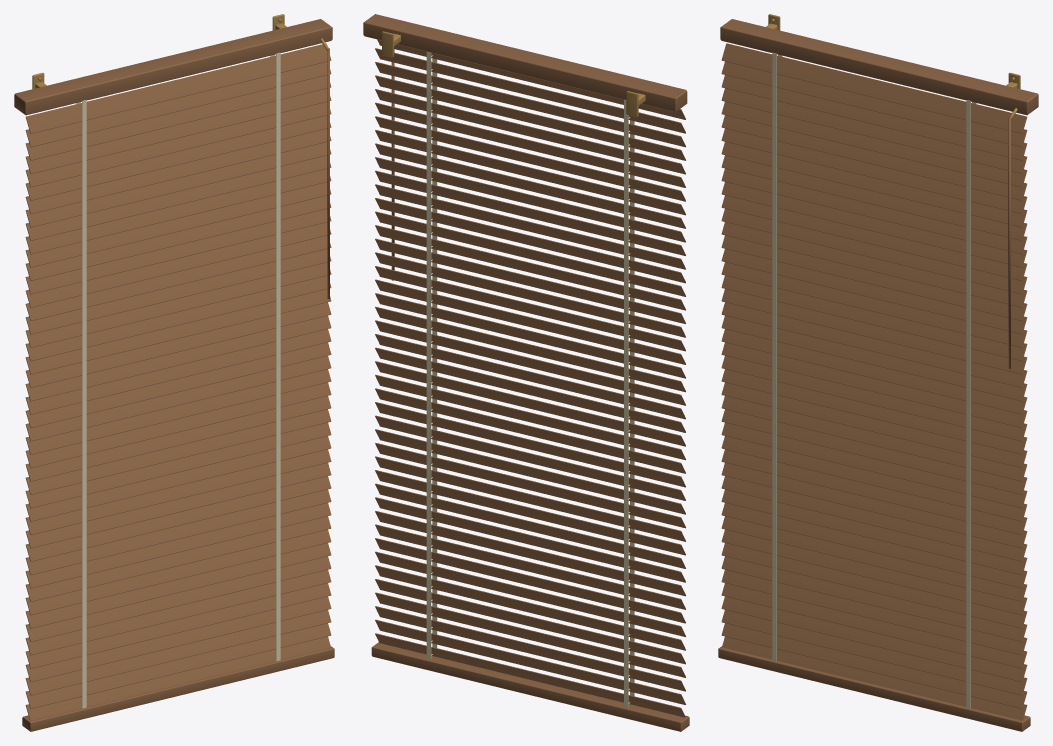
The model's file is rpg-mansion-timber-venetian-blind-01.glb.
3 renders of one model, left to right at view 1: azimuth 30°, elevation 25°; view 2: azimuth 150°, elevation 25°; view 3: azimuth 330°, elevation 25°, orthographic.
Parts seen in each view (by area): view 1: rpg-mansion-timber-venetian-blind-01; view 2: rpg-mansion-timber-venetian-blind-01; view 3: rpg-mansion-timber-venetian-blind-01.
Part boxes in pixels (x1,y1,x2,y2): rpg-mansion-timber-venetian-blind-01: (14, 14, 334, 731); rpg-mansion-timber-venetian-blind-01: (363, 14, 689, 731); rpg-mansion-timber-venetian-blind-01: (718, 14, 1038, 731).
Bounding box in the file's own units: 1 × 1.96 × 0.163.
